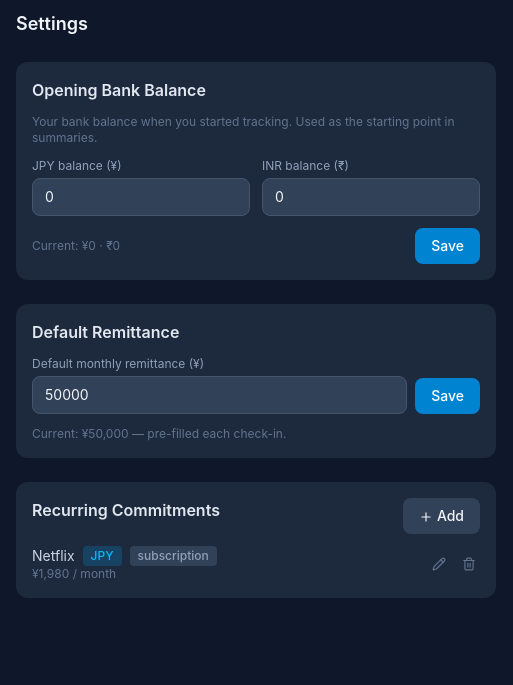
Test: SettingsView (extended) › edits a commitment
Click the button named "Edit Netflix".
click(439, 564)  # box top-left (428, 553), bottom-right (450, 575)
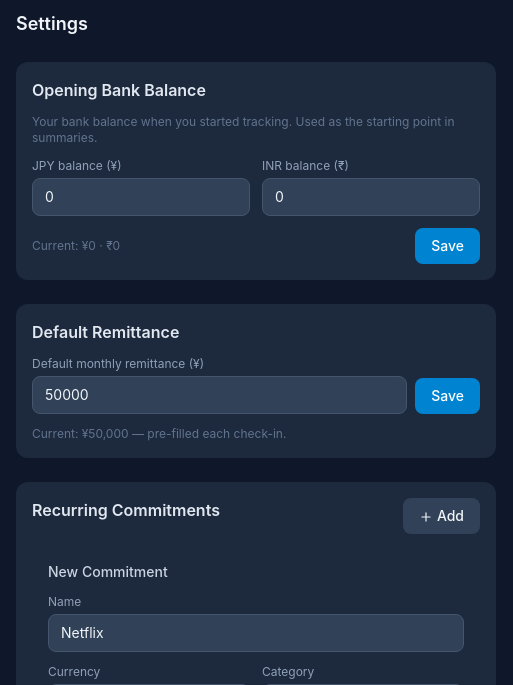
Now the field showing "Netflix" is shown, box top-left (48, 614), bottom-right (464, 652)
